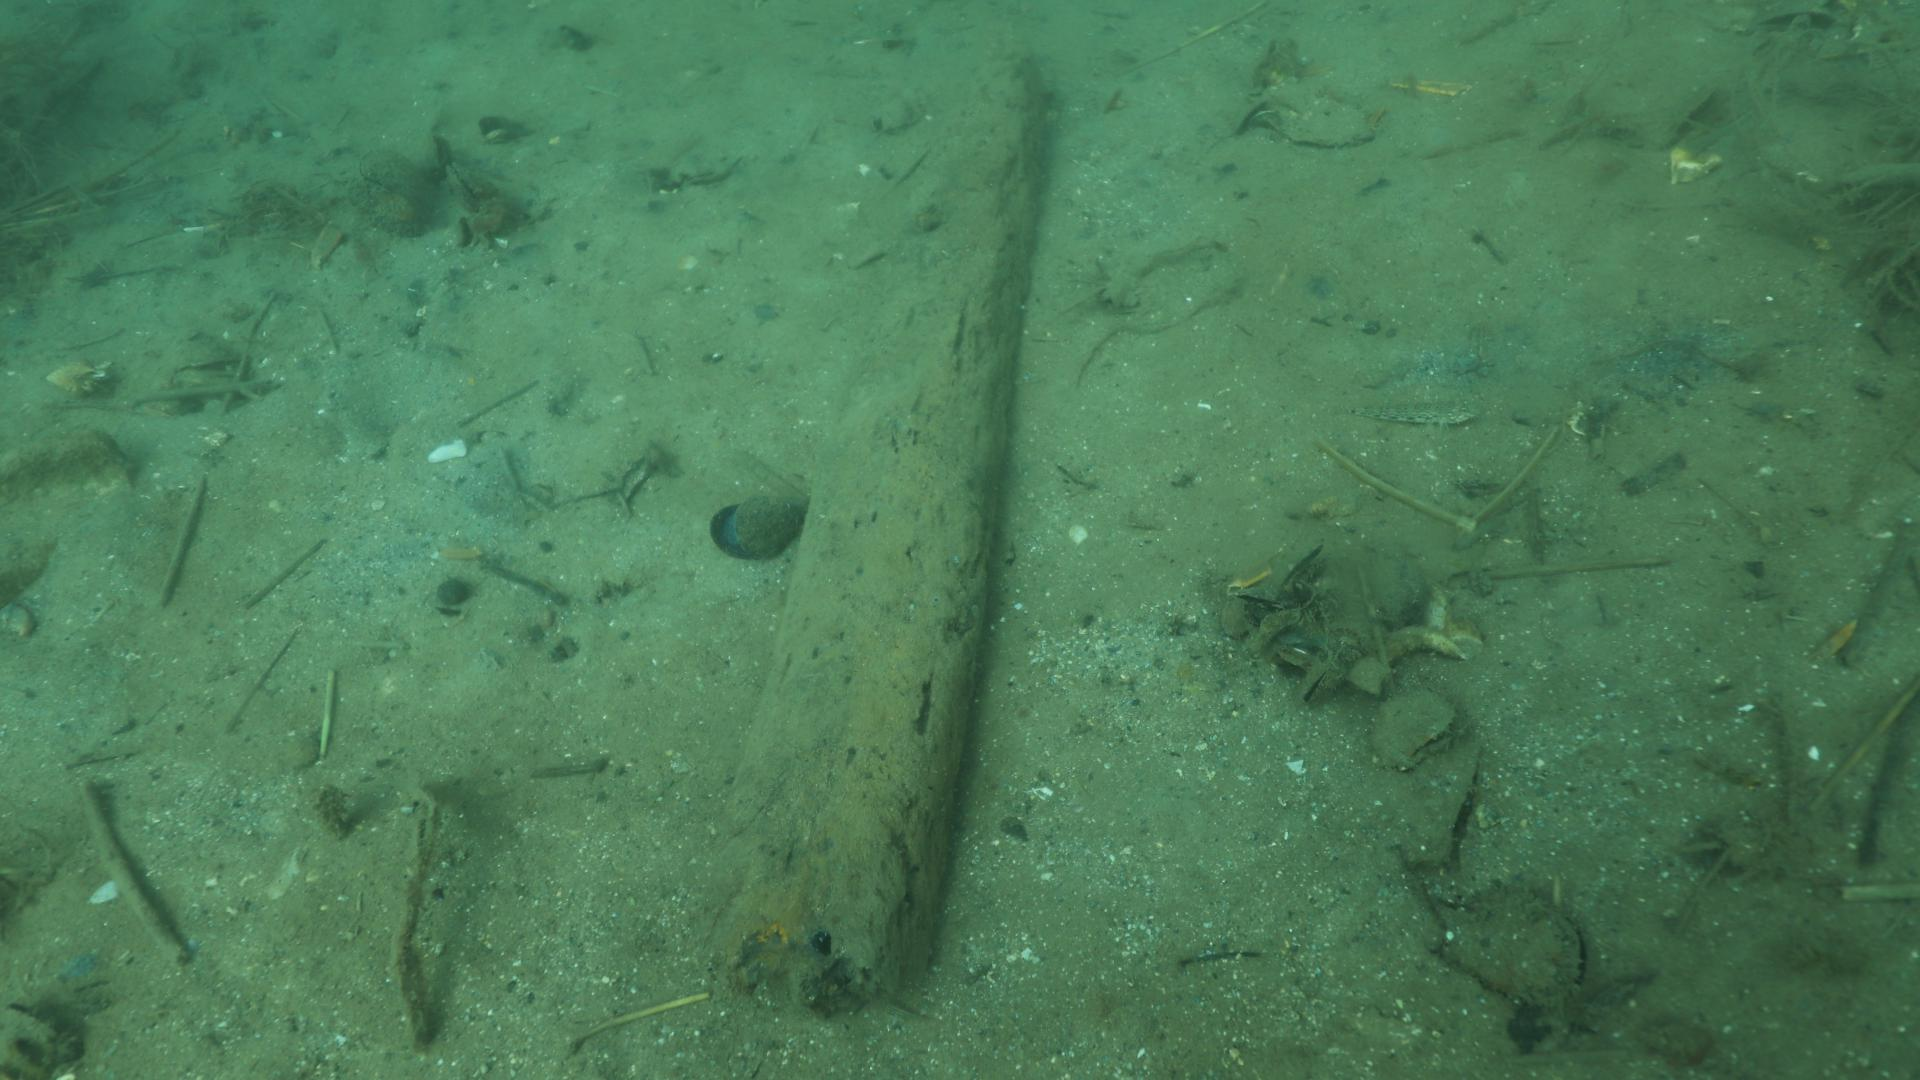wood: (712, 51, 1043, 1022)
